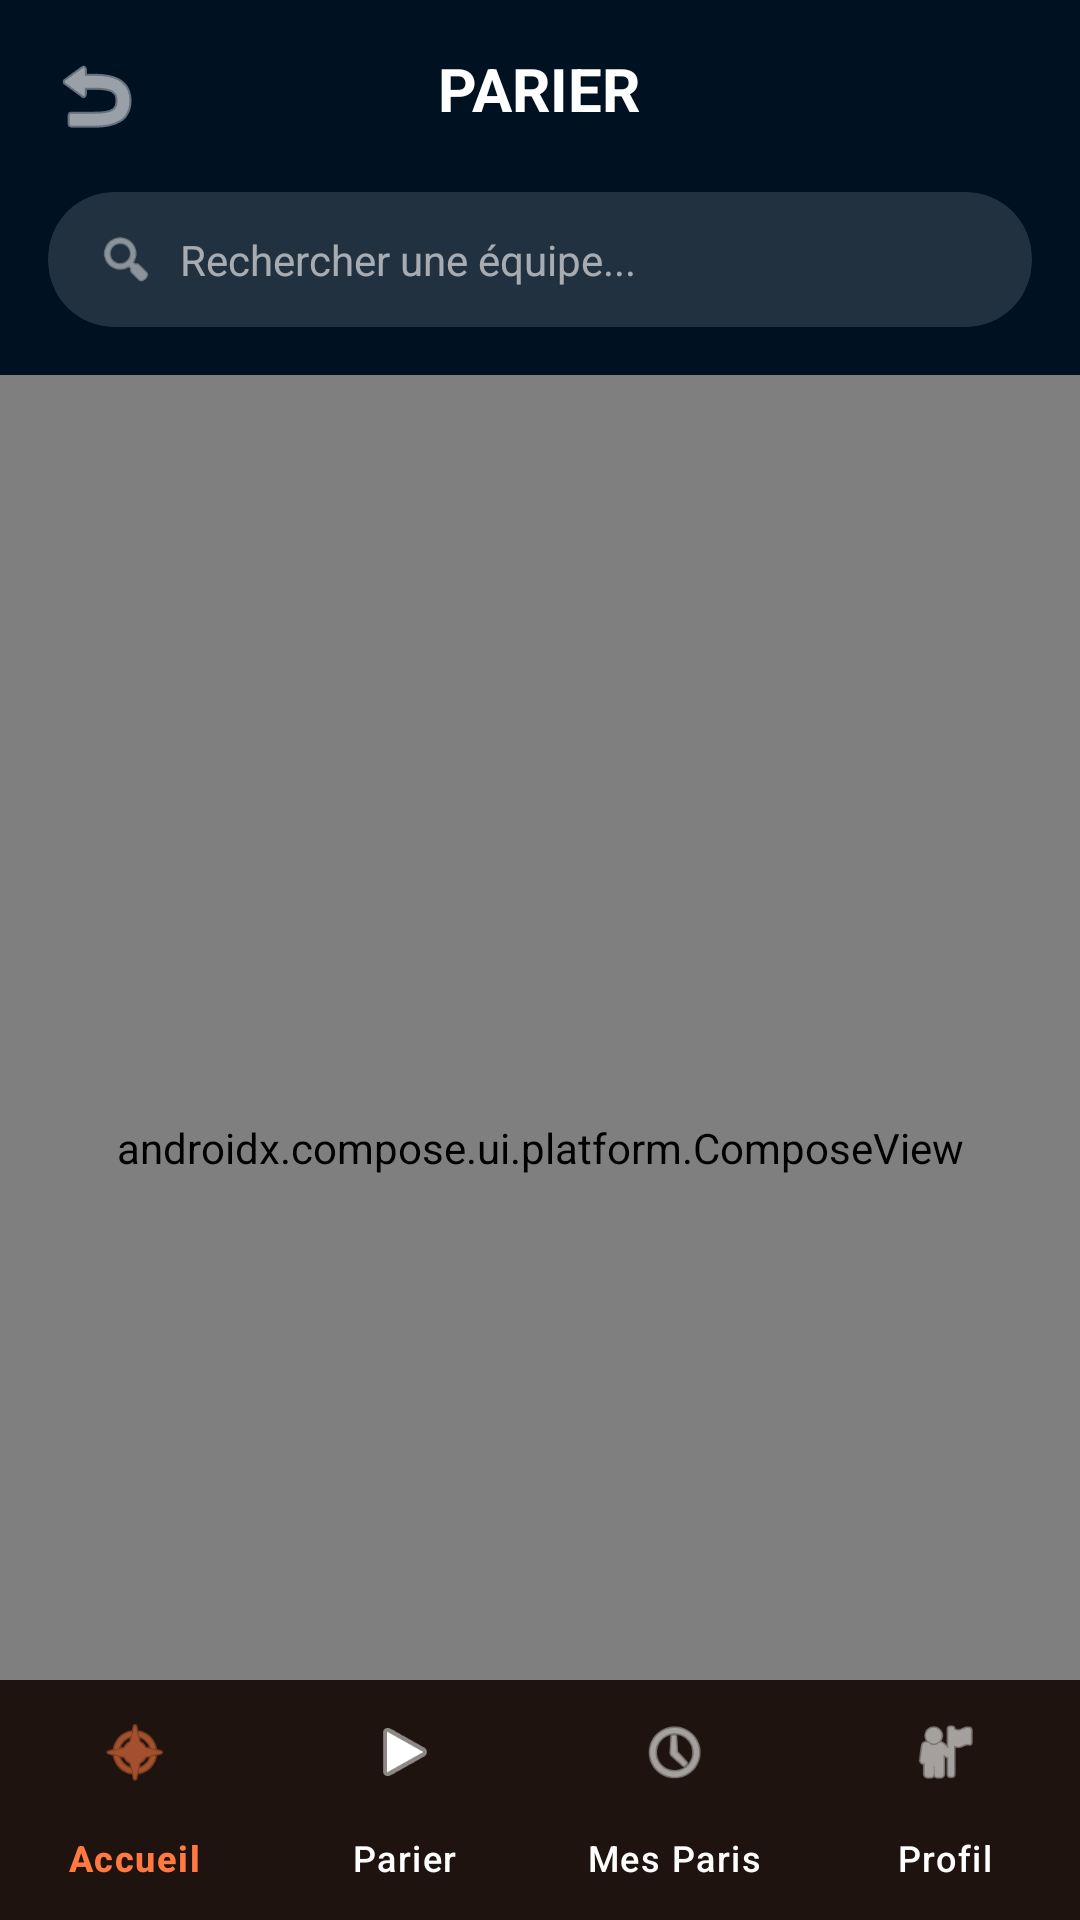

Screen size 1080×1920. Icon name, then its center in pixels as point (x, y):
revert: point (97, 96)
search: point (126, 259)
